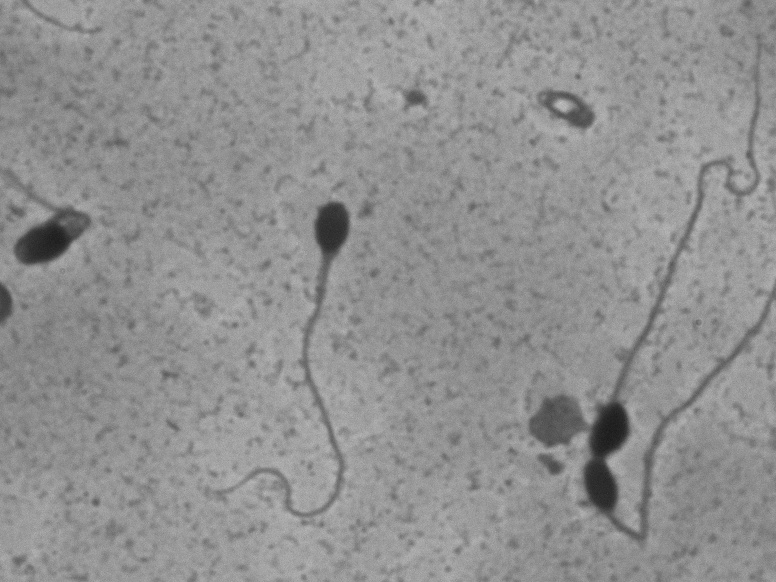Normal: (195, 167, 394, 527)
